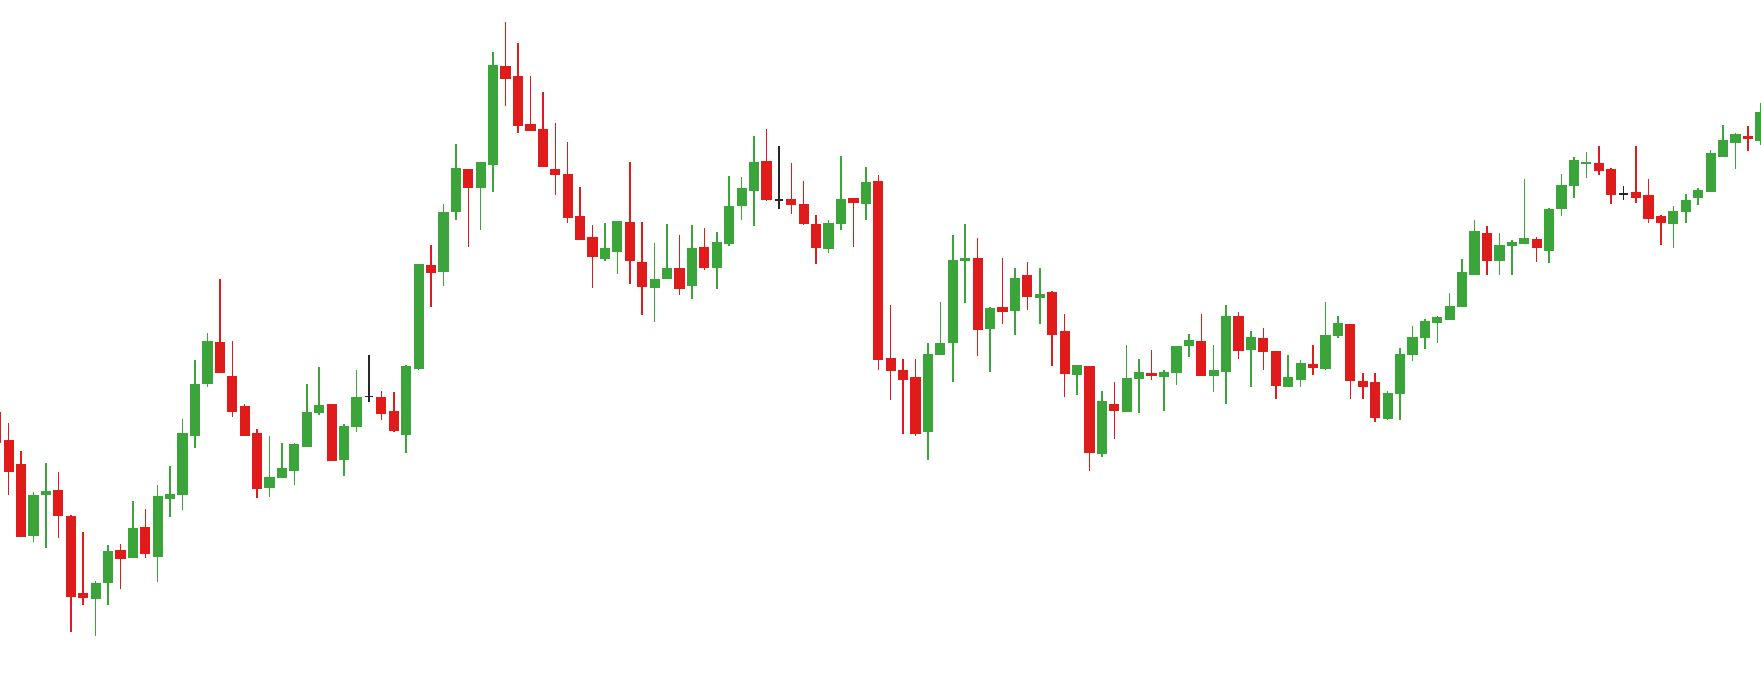buy: (1219, 328, 1395, 428)
sell: (622, 131, 774, 250)
